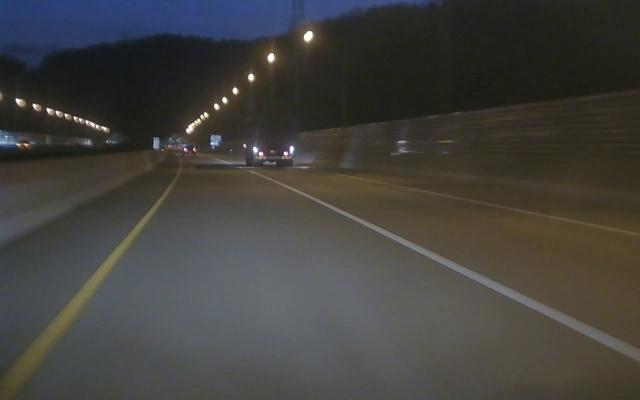lane: (290, 188, 639, 362), (3, 194, 166, 399), (398, 184, 640, 239)
